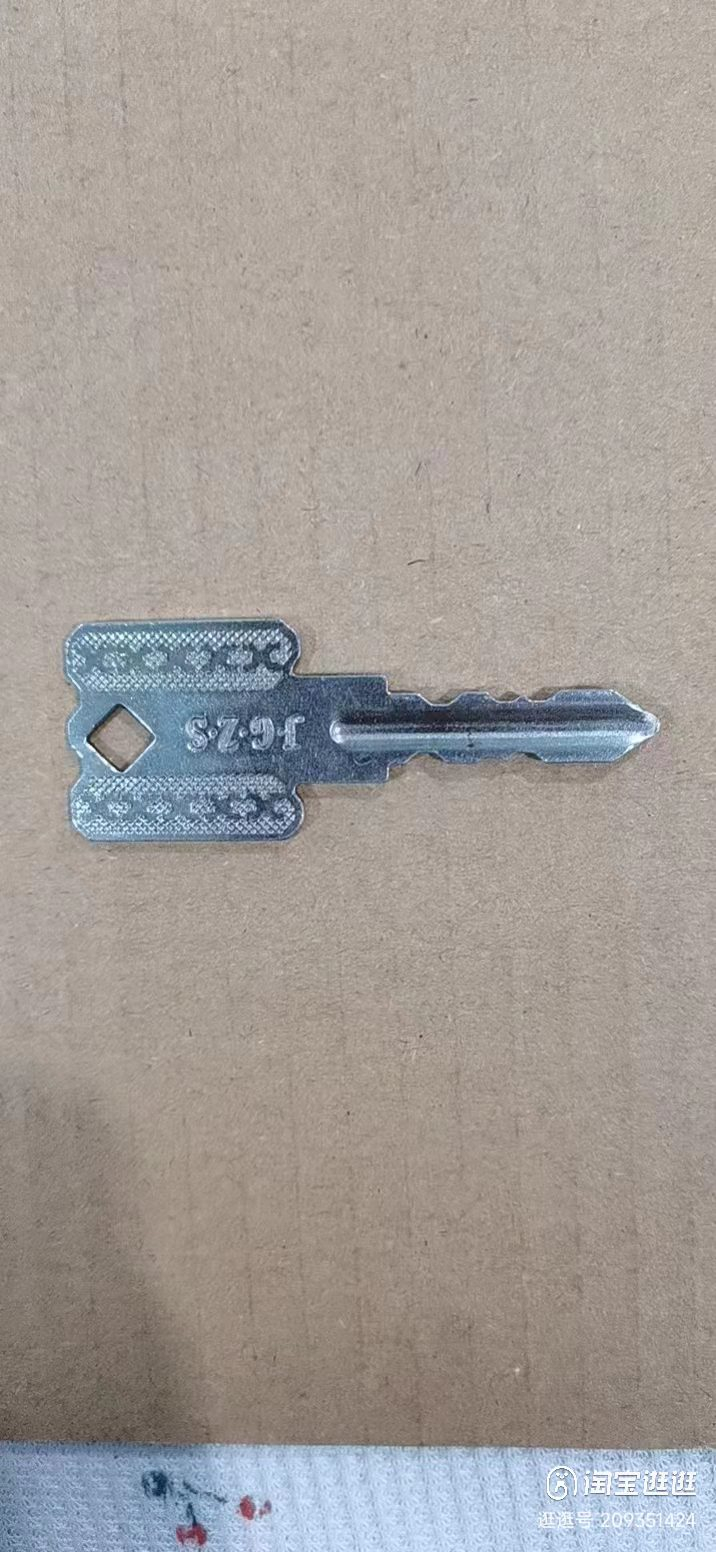key: (47, 622, 675, 837)
